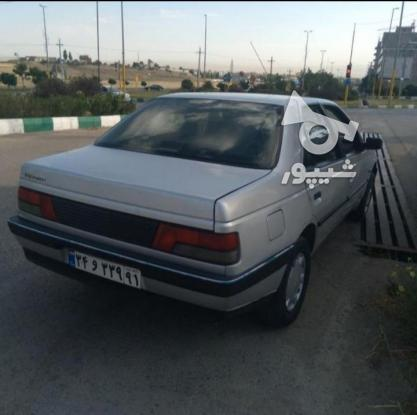car: (68, 248, 144, 293)
